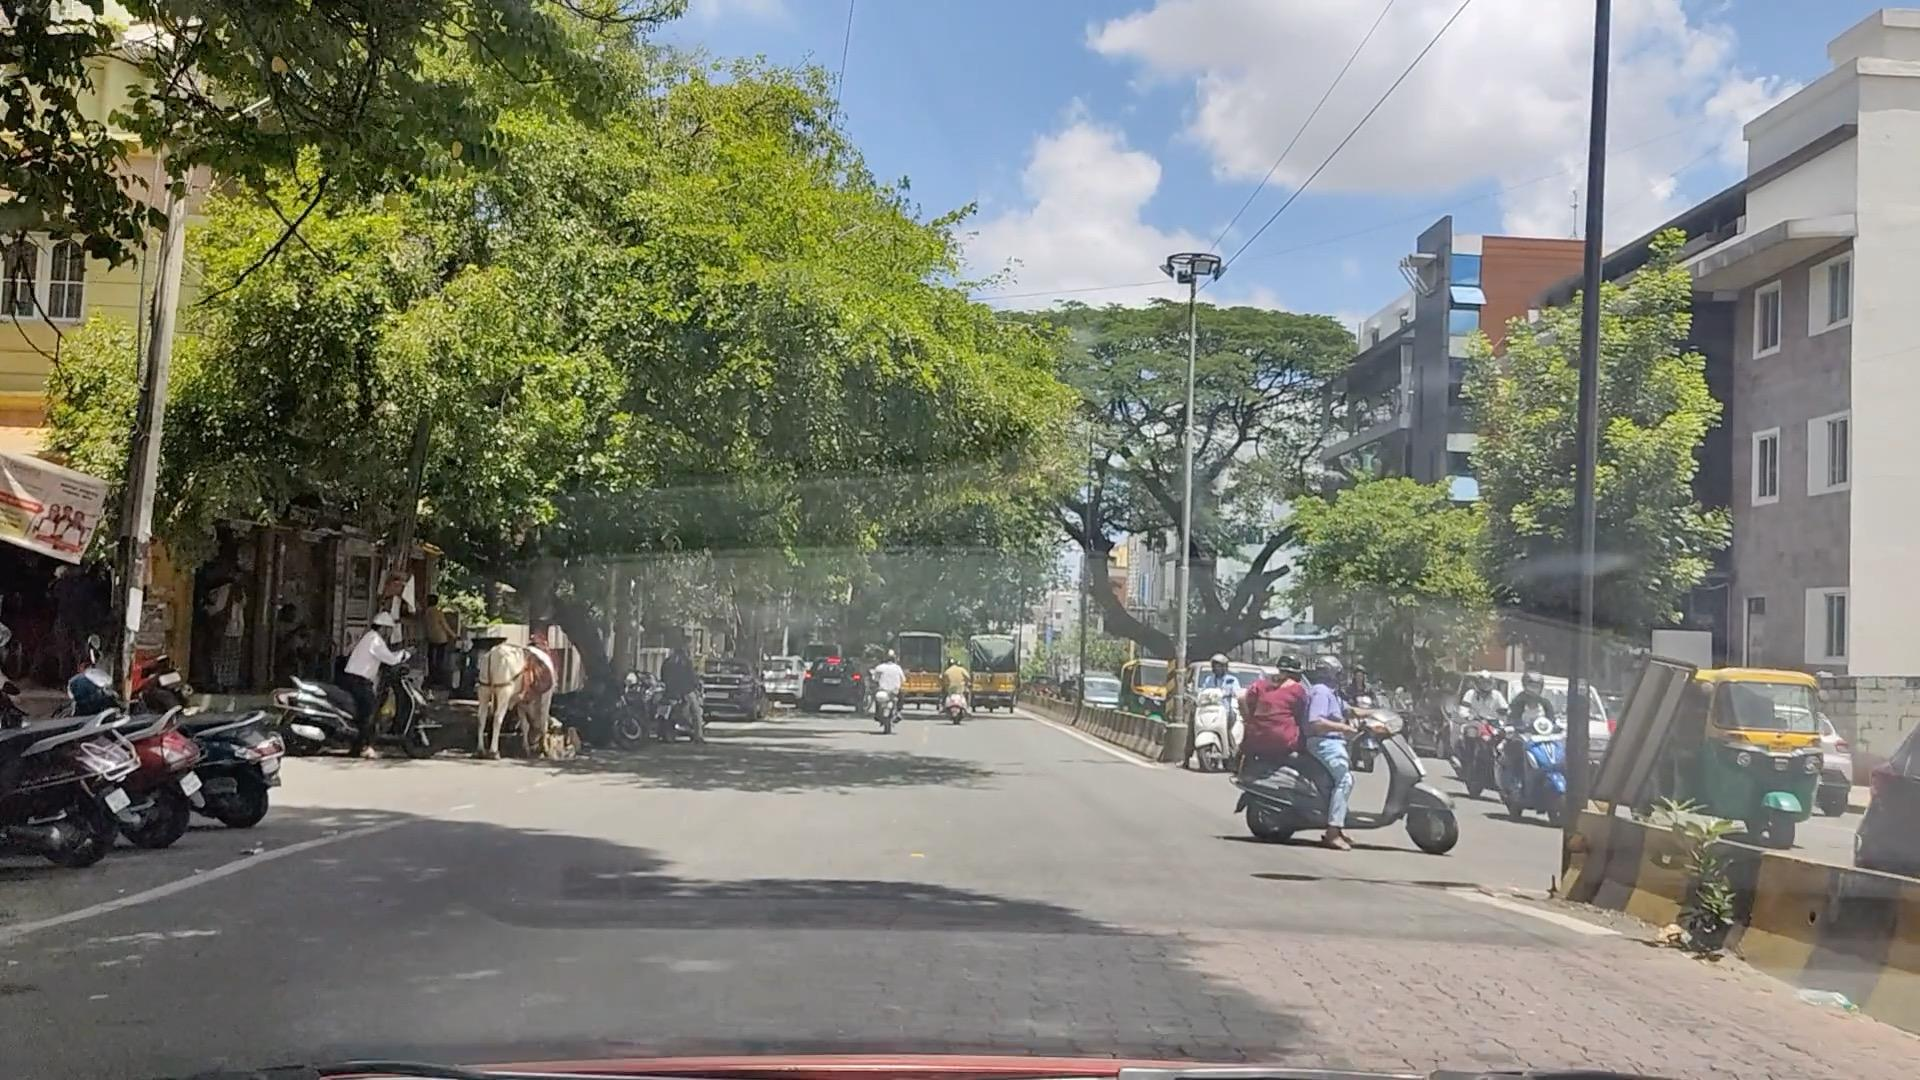LMV: (1223, 647, 1445, 843)
